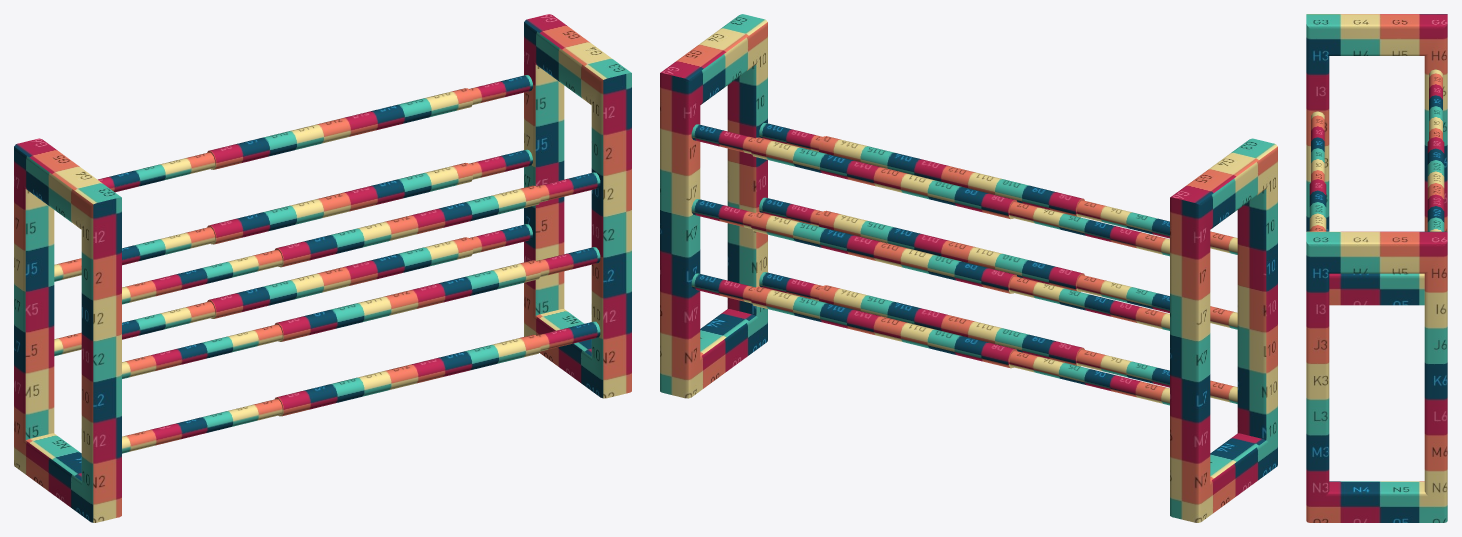
The model's file is shoe_rack.fbx.
3 renders of one model, left to right at view 1: azimuth 30°, elevation 25°; view 2: azimuth 150°, elevation 25°; view 3: azimuth 270°, elevation 25°, orthographic. The views are drawn at different scales.
Visible parts, largest first — view 1: shoe_rack1; view 2: shoe_rack1; view 3: shoe_rack1.
Part boxes in pixels (x1,y1,x2,y2): shoe_rack1: (14,14,631,522); shoe_rack1: (660,14,1277,522); shoe_rack1: (1306,14,1447,522).
Size of the model in its own units: 94.53 by 53.4 by 24.41.
